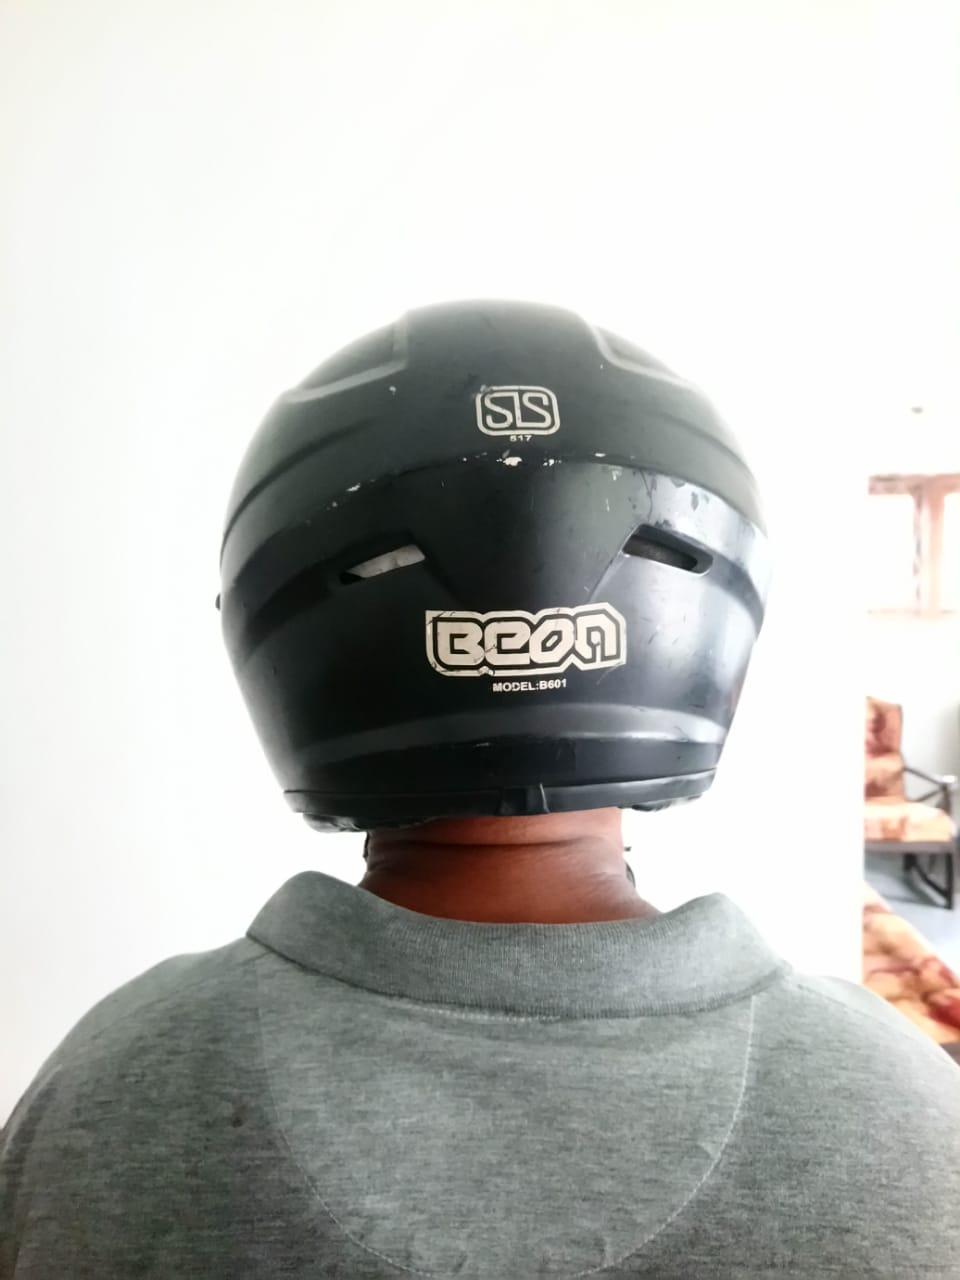helmet: (214, 298, 772, 833)
